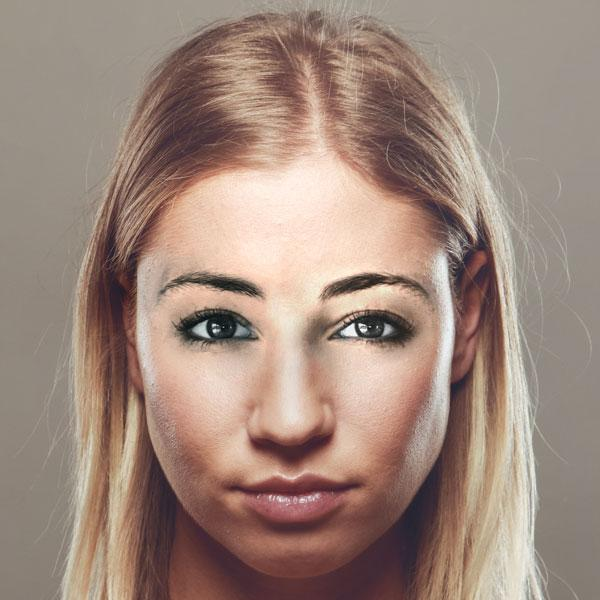Eyes: (316, 298, 424, 359), (166, 295, 268, 356)
